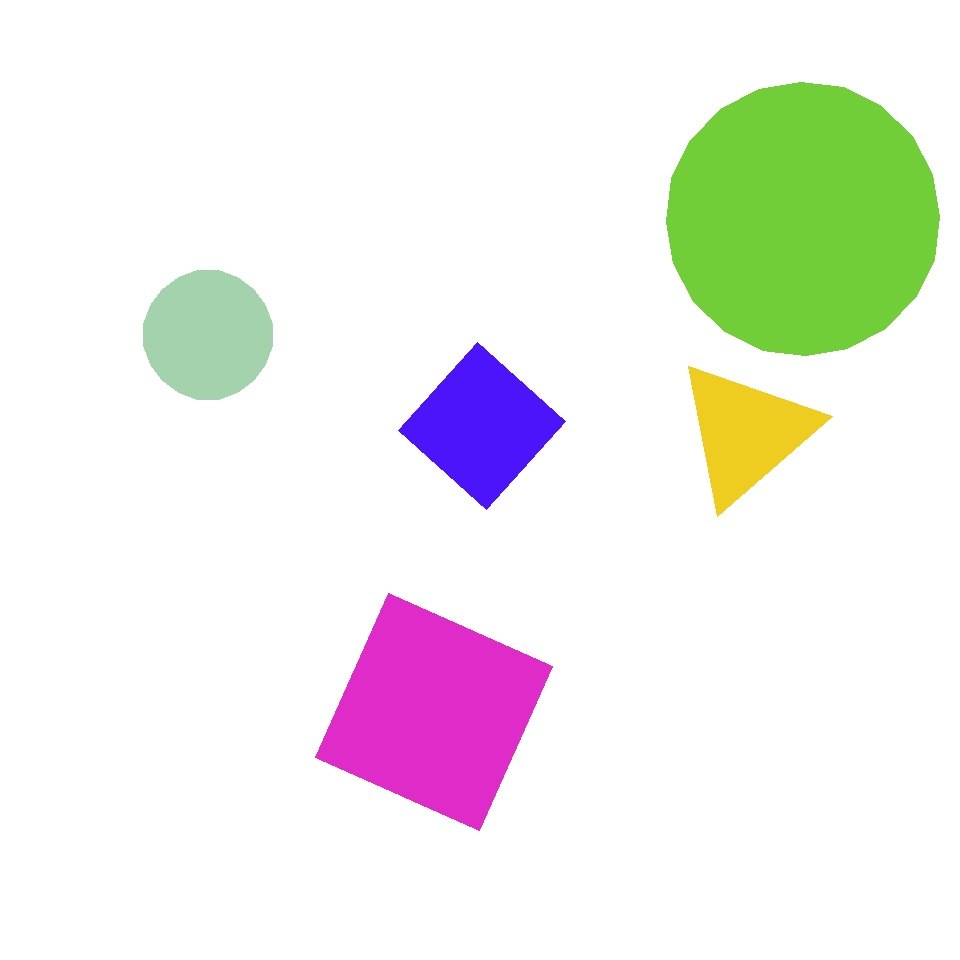circle: (674, 358, 818, 508), (460, 50, 584, 160)
square: (276, 349, 636, 708), (316, 594, 552, 830), (133, 292, 306, 466), (398, 342, 566, 510)
triangle: (666, 82, 940, 356), (144, 270, 272, 400)
